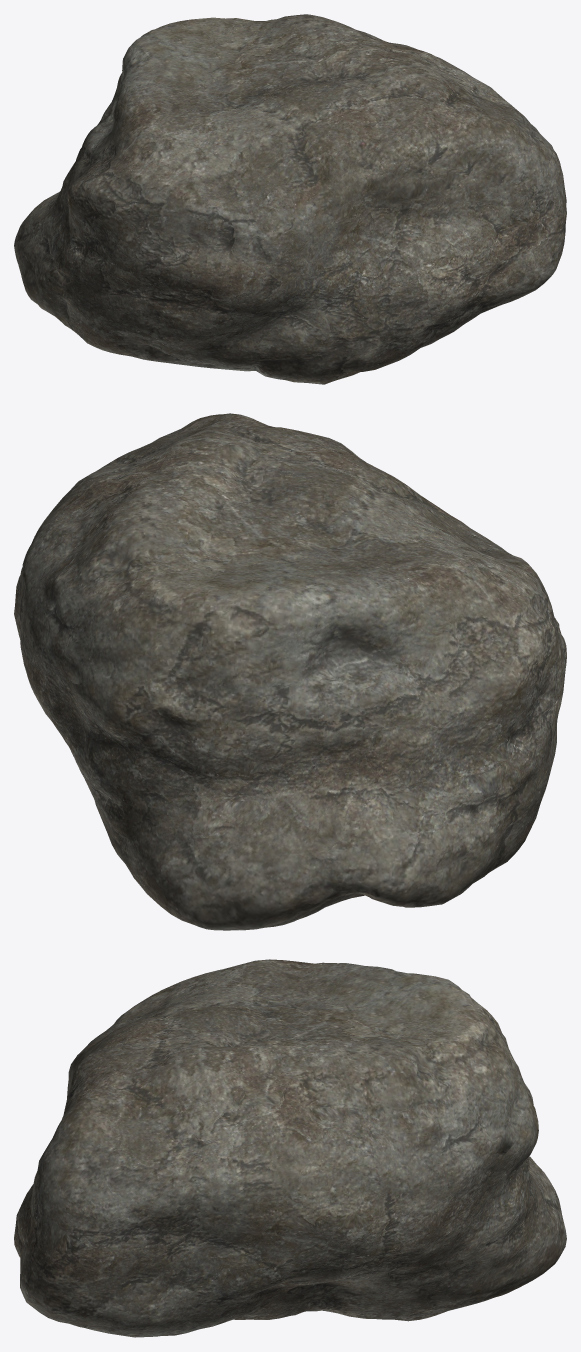
The model's file is PW_Stone_01.glb.
3 renders of one model, top to bottom at view 1: azimuth 30°, elevation 25°; view 2: azimuth 150°, elevation 25°; view 3: azimuth 270°, elevation 25°, orthographic. The views are drawn at different scales.
Parts seen in each view (by area): view 1: PW_Stone_01_LOD0; view 2: PW_Stone_01_LOD0; view 3: PW_Stone_01_LOD0.
Part boxes in pixels (left/top/right/bottom): PW_Stone_01_LOD0: left=14, top=14, right=566, bottom=384; PW_Stone_01_LOD0: left=14, top=413, right=566, bottom=930; PW_Stone_01_LOD0: left=14, top=959, right=566, bottom=1337.
Size of the model in its own units: 1.73 by 1.06 by 1.75.
Materials: 1 (1 with a texture image).
